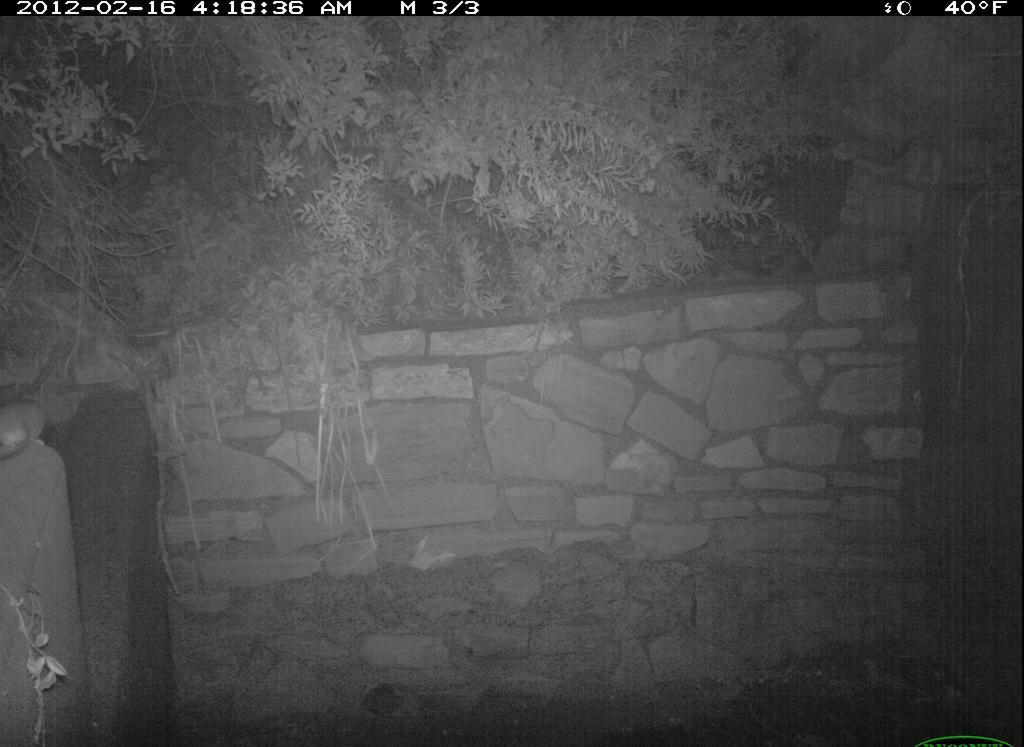rodent: (1, 395, 52, 468)
